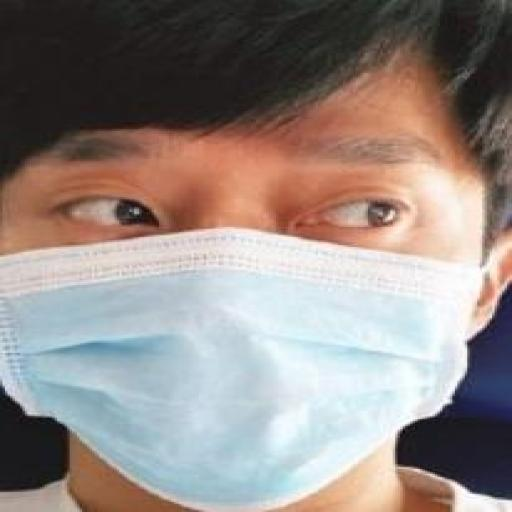mask: (0, 51, 512, 512)
